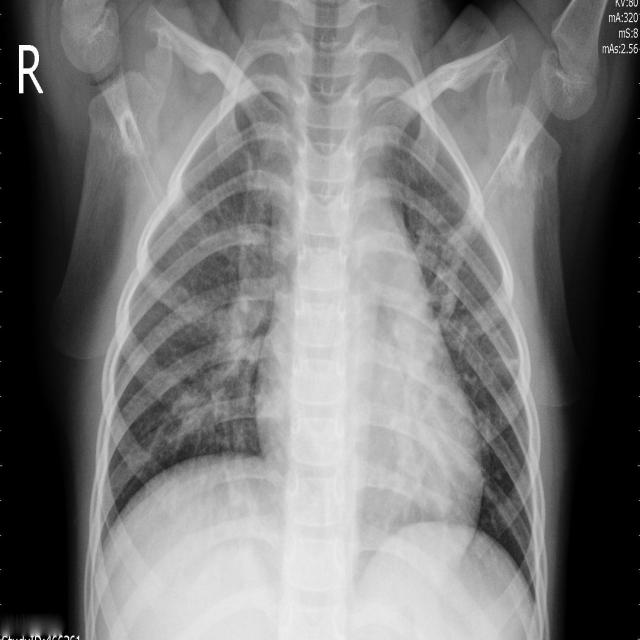low-pneumonia: (151, 241, 272, 446)
